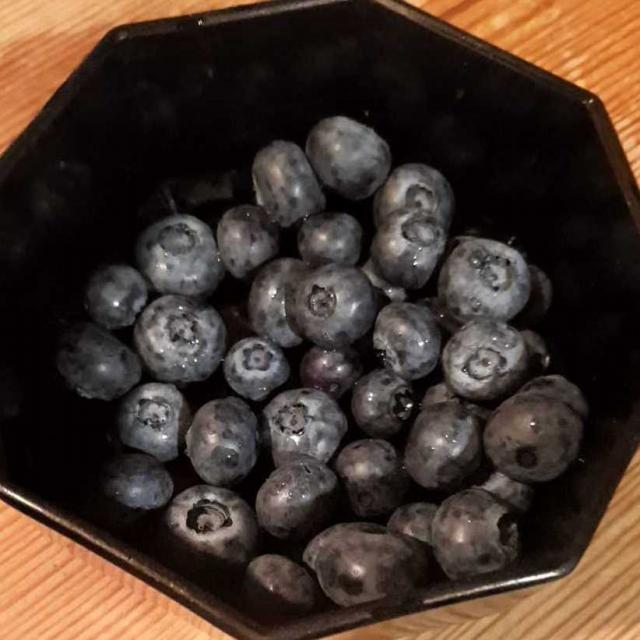blueberries: (69, 116, 577, 608)
